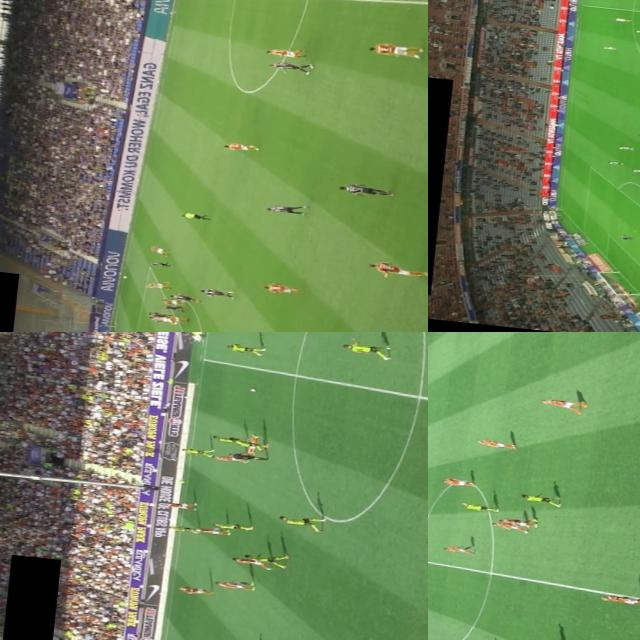ball: (242, 386, 256, 394), (118, 275, 128, 280)
player: (338, 336, 392, 359), (364, 260, 424, 278), (536, 394, 586, 414), (366, 41, 418, 58), (274, 512, 323, 530), (594, 589, 640, 607), (334, 182, 389, 196), (264, 60, 312, 75), (488, 518, 531, 534), (520, 491, 564, 506), (240, 552, 286, 566), (228, 554, 271, 568), (474, 436, 514, 451), (258, 202, 304, 215), (210, 578, 256, 591), (197, 287, 236, 300), (439, 475, 474, 489), (264, 47, 304, 59), (224, 344, 263, 356), (171, 583, 210, 595), (192, 524, 229, 536), (462, 501, 496, 514), (209, 432, 244, 444), (499, 516, 534, 528), (263, 283, 300, 294), (210, 453, 244, 464), (440, 542, 471, 554), (208, 520, 244, 530), (164, 291, 195, 302), (166, 500, 197, 511), (222, 142, 256, 152), (178, 447, 212, 457), (230, 438, 264, 448), (243, 434, 256, 456), (140, 280, 166, 289), (167, 524, 195, 532), (147, 260, 173, 268), (159, 304, 183, 312), (160, 297, 183, 305), (162, 316, 184, 324), (146, 312, 172, 318), (148, 316, 172, 322), (146, 247, 166, 254), (615, 145, 633, 152), (612, 16, 630, 22), (617, 234, 632, 241), (605, 160, 621, 166), (599, 44, 615, 50), (629, 167, 640, 173), (633, 27, 640, 35), (632, 28, 638, 30)
